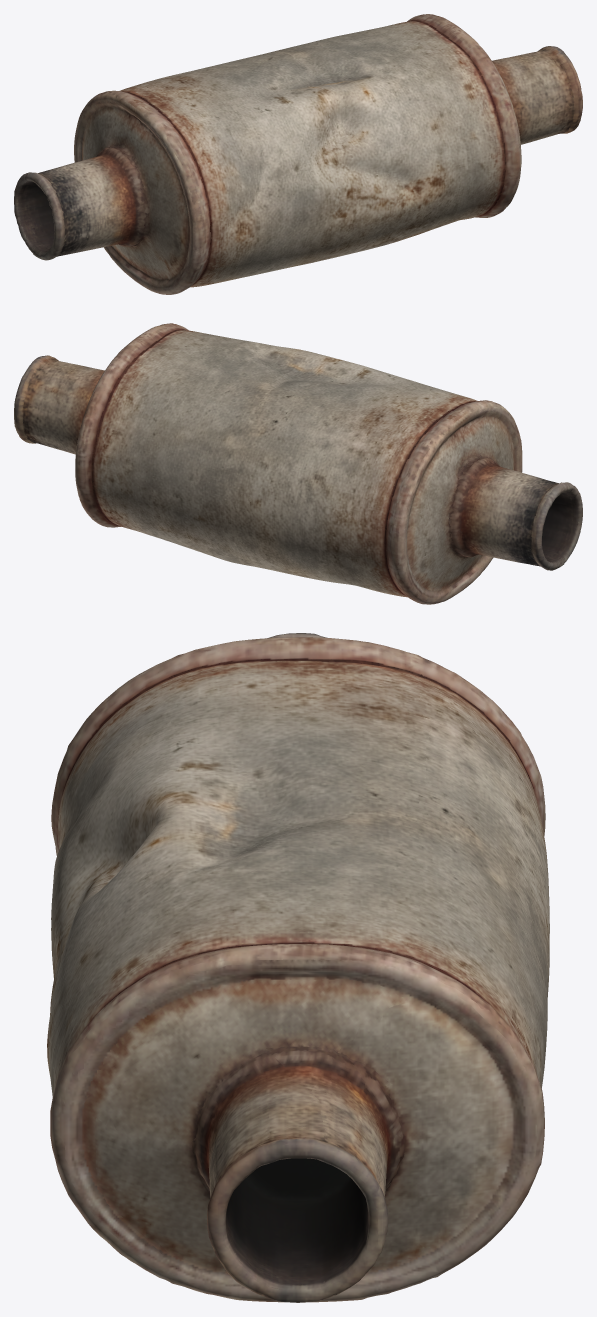
Rendered from raw.glb.
3 views of the same model, one above another, from view 1: azimuth 30°, elevation 25°; view 2: azimuth 150°, elevation 25°; view 3: azimuth 270°, elevation 25° (orthographic). The views are drawn at different scales.
Bounding box in the file's own units: 1.01 × 0.3264 × 0.4161.
1 material, 1 textured.
